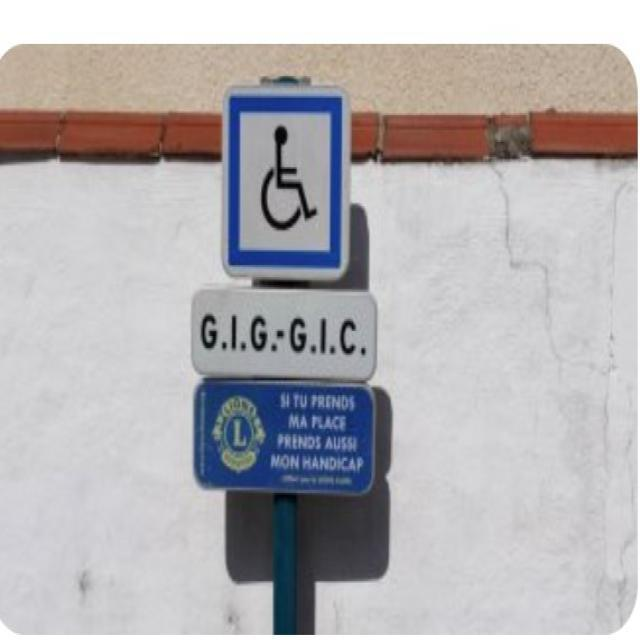symbol_of_access: (219, 88, 353, 283)
